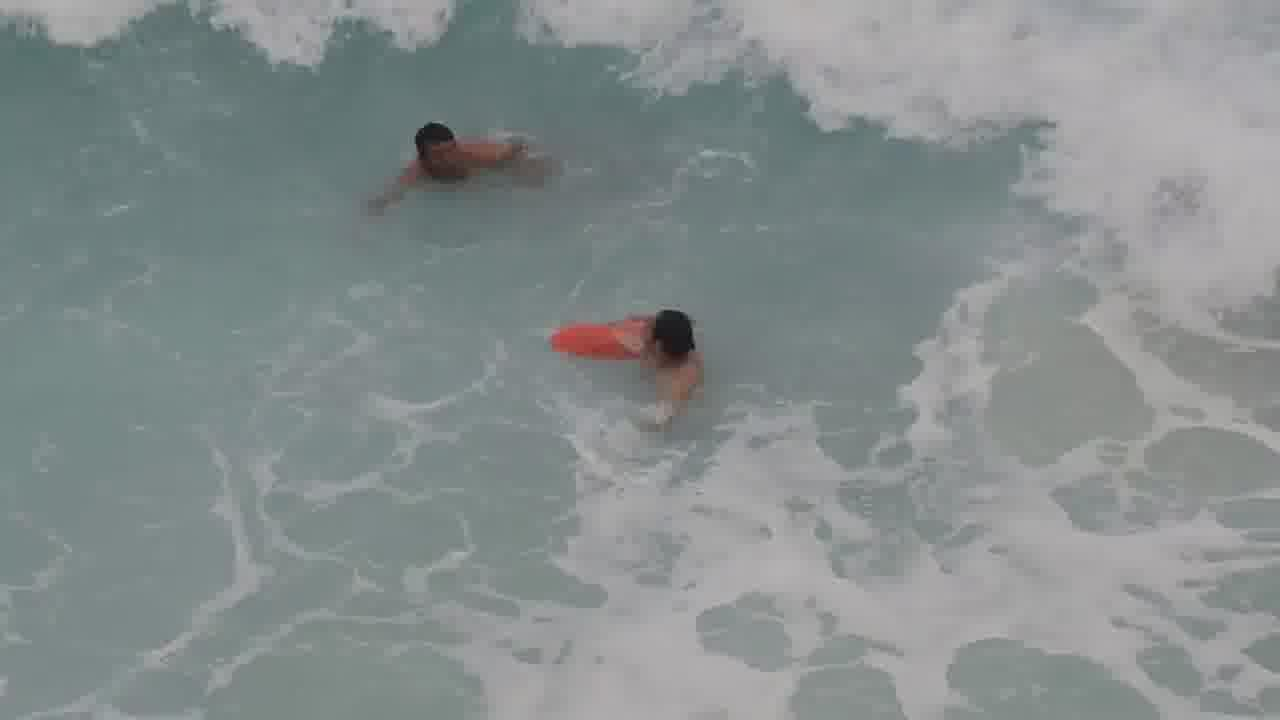human: (570, 294, 715, 432), (358, 116, 524, 230)
